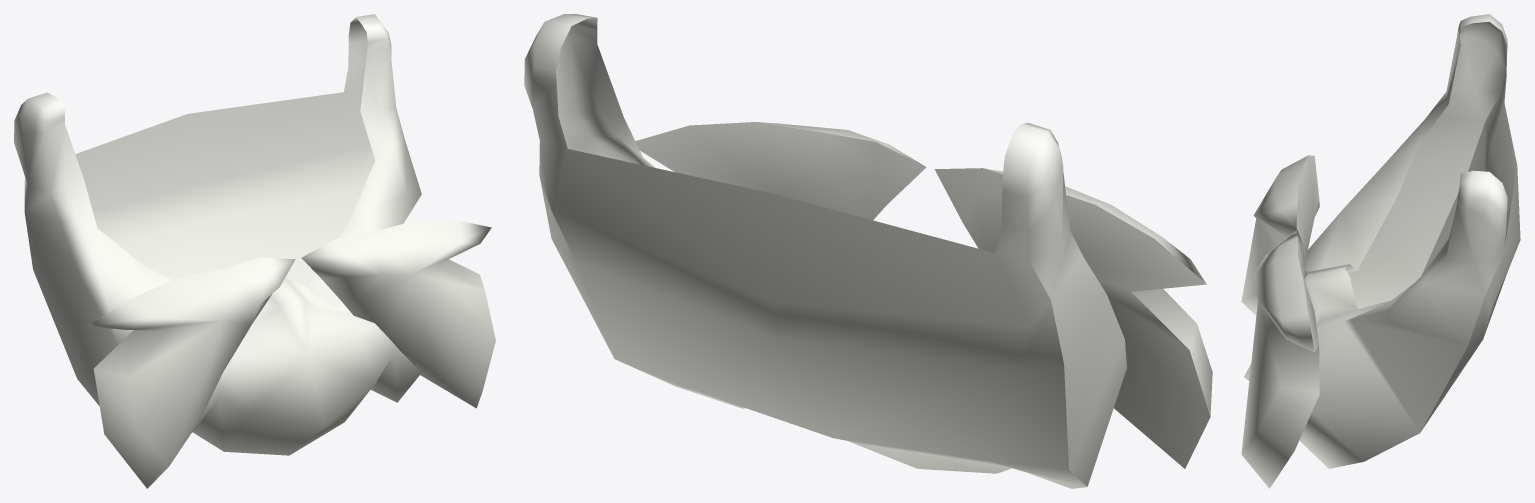
File: Beard_White_15.fbx
3 renders of one model, left to right at view 1: azimuth 30°, elevation 25°; view 2: azimuth 150°, elevation 25°; view 3: azimuth 270°, elevation 25°, orthographic. The views are drawn at different scales.
Visible parts, largest first — view 1: Beard_White_15; view 2: Beard_White_15; view 3: Beard_White_15.
Part boxes in pixels (left/top/right/bottom): Beard_White_15: left=14, top=14, right=495, bottom=488; Beard_White_15: left=524, top=14, right=1212, bottom=488; Beard_White_15: left=1241, top=14, right=1520, bottom=488.
Bounding box in the file's own units: 57.97 × 45.99 × 34.69.
